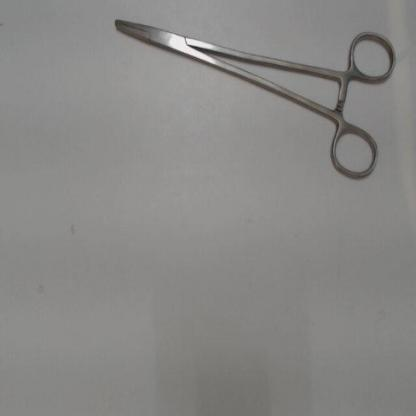8 Mayo Needle Holder: (103, 7, 403, 190)
